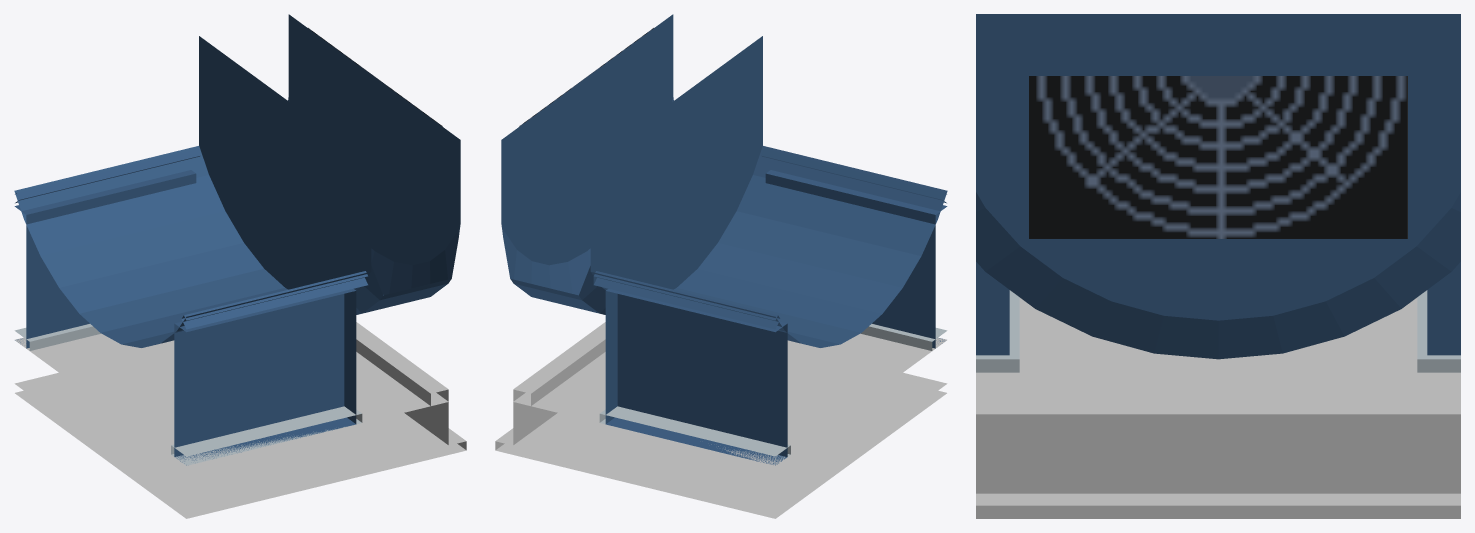
Rendered from cell_13.obj.
3 renders of one model, left to right at view 1: azimuth 30°, elevation 25°; view 2: azimuth 150°, elevation 25°; view 3: azimuth 270°, elevation 25°, orthographic. The views are drawn at different scales.
Bounding box in the file's own units: 0.94 × 1 × 1.
